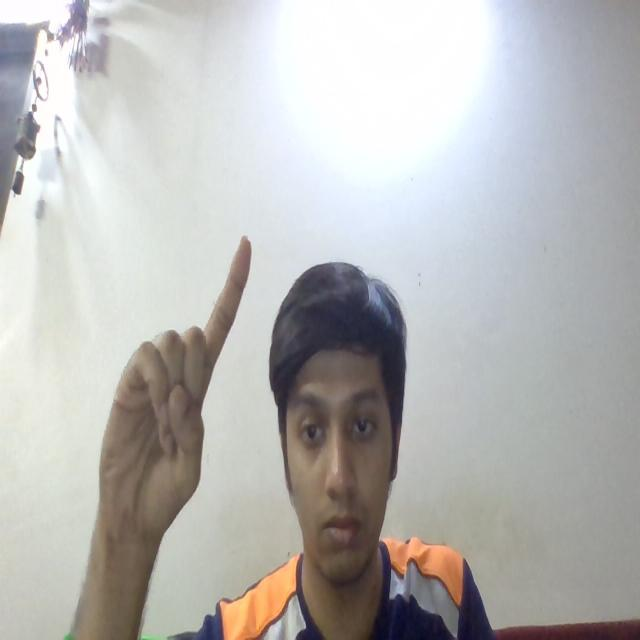Z: (79, 212, 258, 557)
